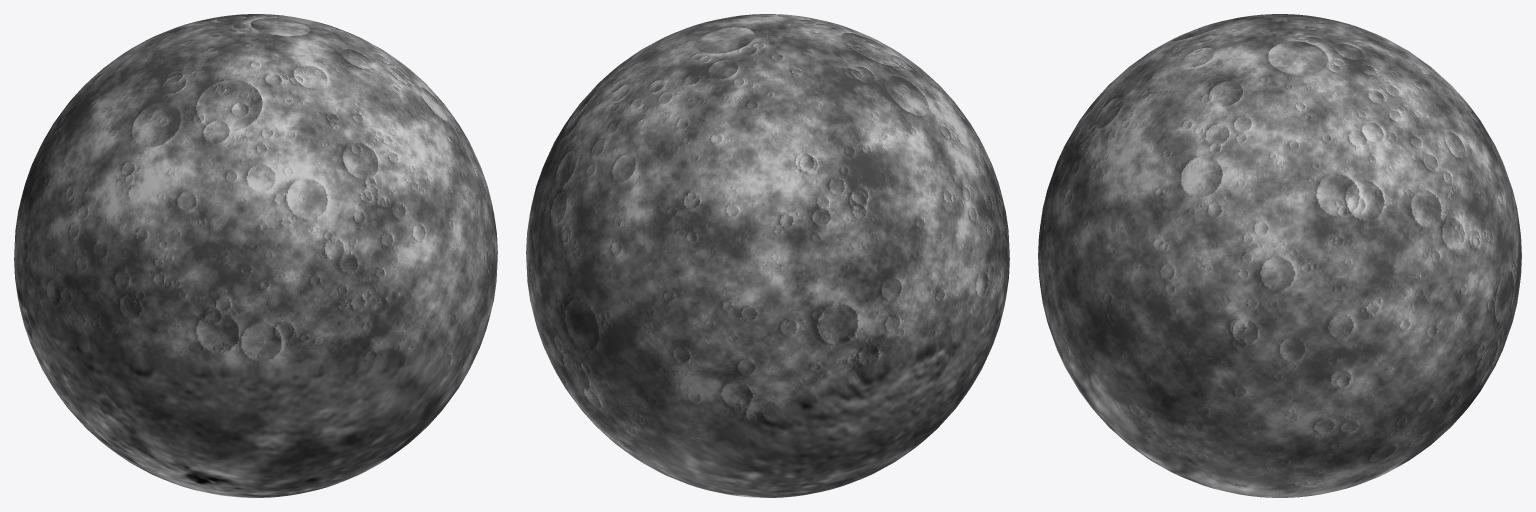
Rendered from ball-oberon.glb.
3 views of the same model, side by side, from view 1: azimuth 30°, elevation 25°; view 2: azimuth 150°, elevation 25°; view 3: azimuth 270°, elevation 25° (orthographic).
Visible parts, largest first — view 1: voyager2; view 2: voyager2; view 3: voyager2.
Part boxes in pixels (left/top/right/bottom): voyager2: left=14, top=14, right=497, bottom=497; voyager2: left=526, top=14, right=1009, bottom=497; voyager2: left=1038, top=14, right=1521, bottom=497.
Bounding box in the file's own units: 2 × 2 × 2.
1 material, 1 textured.
